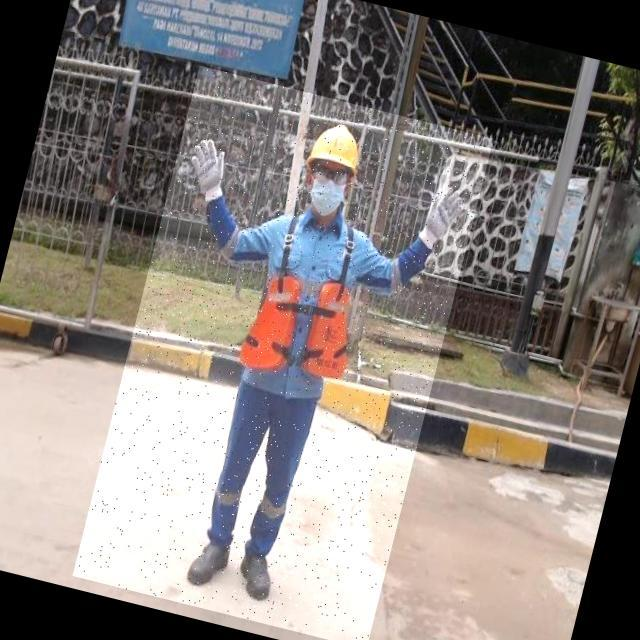Gloves: (183, 133, 237, 207), (418, 174, 469, 252)
Helmet: (301, 109, 374, 188)
Person: (155, 82, 482, 621)
Safety Boot: (179, 523, 240, 598), (228, 544, 284, 609)
Safety Vest: (228, 247, 375, 404)
